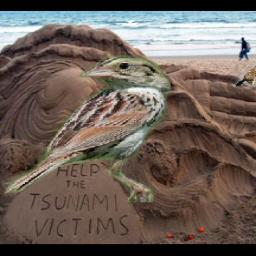Sparrow: (2, 56, 171, 203), (236, 65, 256, 87)
